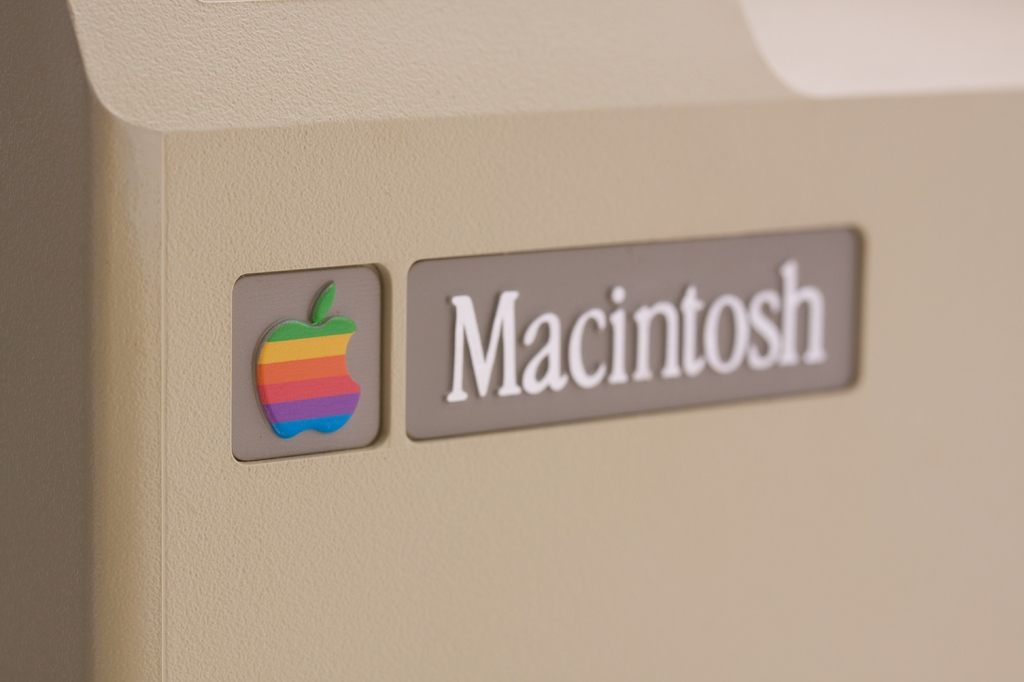Apple: (252, 281, 362, 438)
